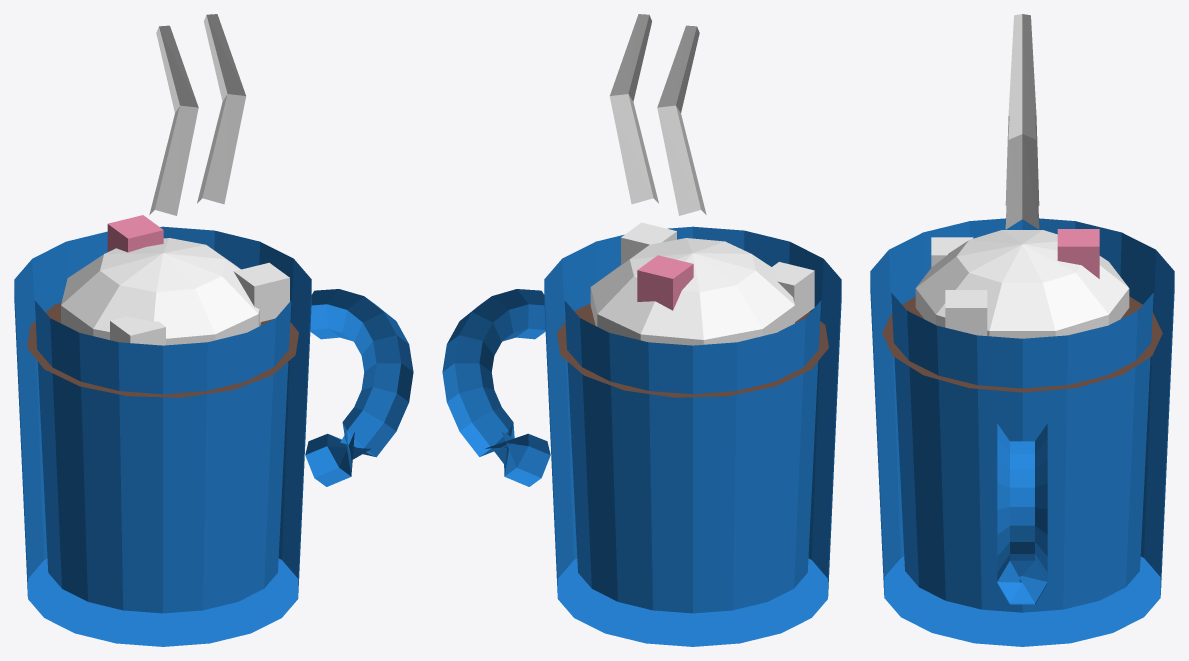
File: kakao.glb
3 renders of one model, left to right at view 1: azimuth 30°, elevation 25°; view 2: azimuth 150°, elevation 25°; view 3: azimuth 270°, elevation 25°, orthographic. The views are drawn at different scales.
Parts seen in each view (by area): view 1: kakao; view 2: kakao; view 3: kakao.
Part boxes in pixels (<box>): kakao: <box>14,14,413,646</box>; kakao: <box>442,14,841,646</box>; kakao: <box>870,14,1174,646</box>.
Size of the model in its own units: 0.3156 by 0.4516 by 0.2166.
